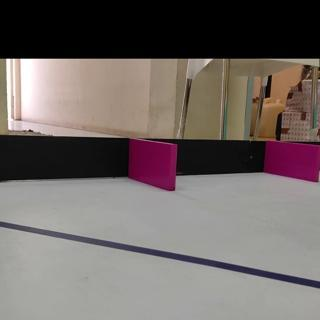xparking: (132, 145, 176, 189), (269, 144, 318, 179)
